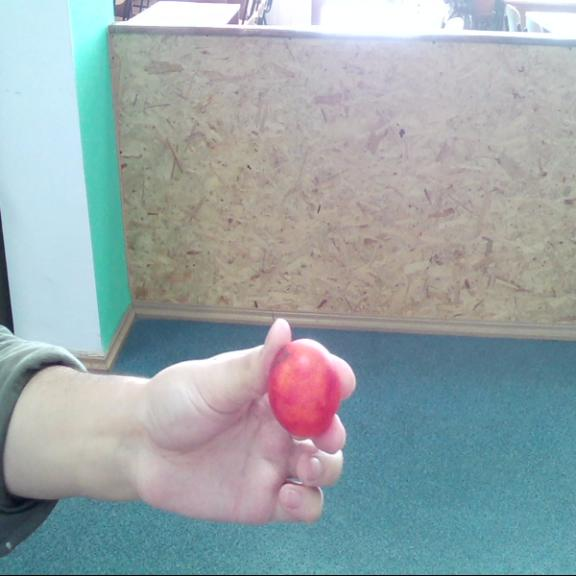ball: (269, 339, 341, 434)
